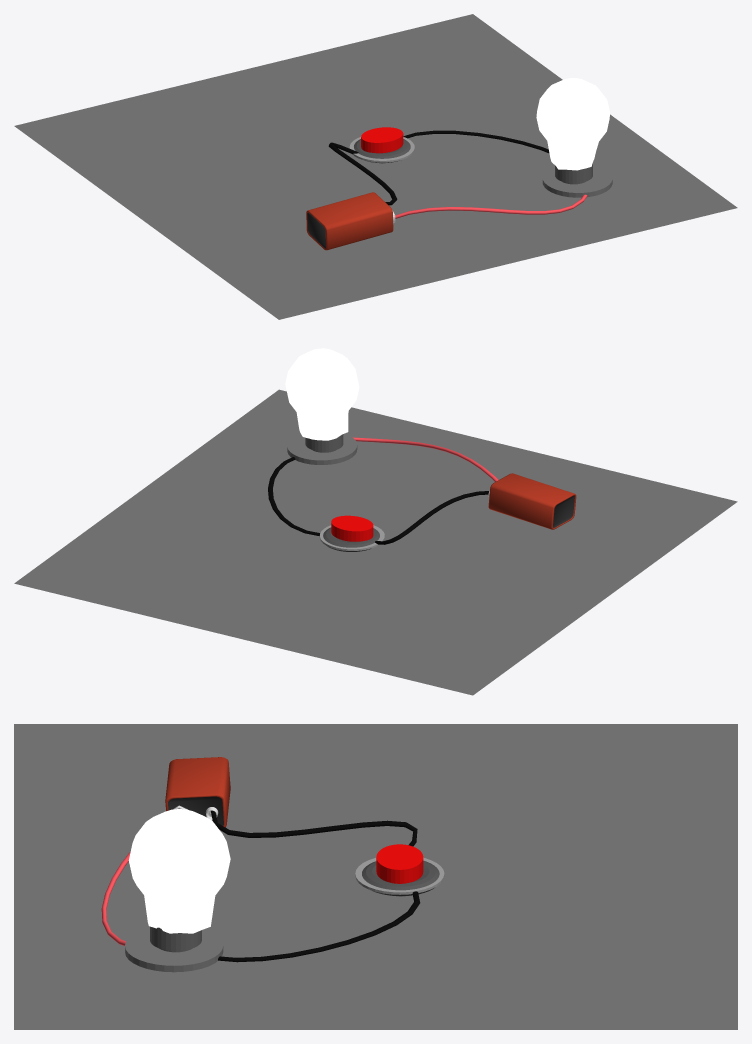
The model's file is lightscene.gltf.
3 renders of one model, top to bottom at view 1: azimuth 30°, elevation 25°; view 2: azimuth 150°, elevation 25°; view 3: azimuth 270°, elevation 25°, orthographic. The views are drawn at different scales.
Parts seen in each view (by area): view 1: Plane, Sphere.002, Cylinder.005, Cylinder.003, Button, BezierCurve.001, BezierCurve.000, BezierCurve, Cylinder; view 2: Plane, Sphere.002, Cylinder.005, Cylinder.003, Button, BezierCurve.001, BezierCurve; view 3: Plane, Sphere.002, Cylinder.005, Cylinder.003, Button, BezierCurve, BezierCurve.000, Torus.002, Cylinder, Cylinder.004, BezierCurve.001.
Part boxes in pixels (x1,y1,x2,y2): Plane: (14,14,737,319); Sphere.002: (536,78,609,170); Cylinder.005: (306,192,395,250); Cylinder.003: (542,164,612,197); Button: (361,127,403,153); BezierCurve.001: (395,194,587,218); BezierCurve.000: (403,130,549,153); BezierCurve: (328,142,397,205); Cylinder: (555,163,592,184); Plane: (14,389,737,695); Sphere.002: (285,348,359,440); Cylinder.005: (488,473,576,529); Cylinder.003: (287,433,357,464); Button: (331,515,373,541); BezierCurve.001: (352,437,498,481); BezierCurve: (375,491,489,544); Plane: (14,724,737,1029); Sphere.002: (128,809,230,933); Cylinder.005: (165,757,230,827); Cylinder.003: (125,928,223,972); Button: (376,844,423,883); BezierCurve: (210,810,417,846); BezierCurve.000: (218,891,420,962); Torus.002: (362,860,439,896); Cylinder: (150,926,201,952); Cylinder.004: (355,857,444,894); BezierCurve.001: (101,851,130,945).
Bounding box in the file's own units: 6.13 × 1.37 × 6.13.
